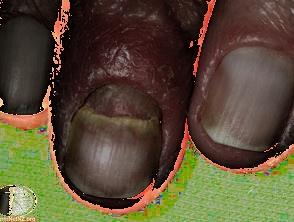Nail_psoriasis: (39, 0, 211, 221), (193, 0, 294, 168), (178, 64, 290, 172), (0, 0, 56, 120)
